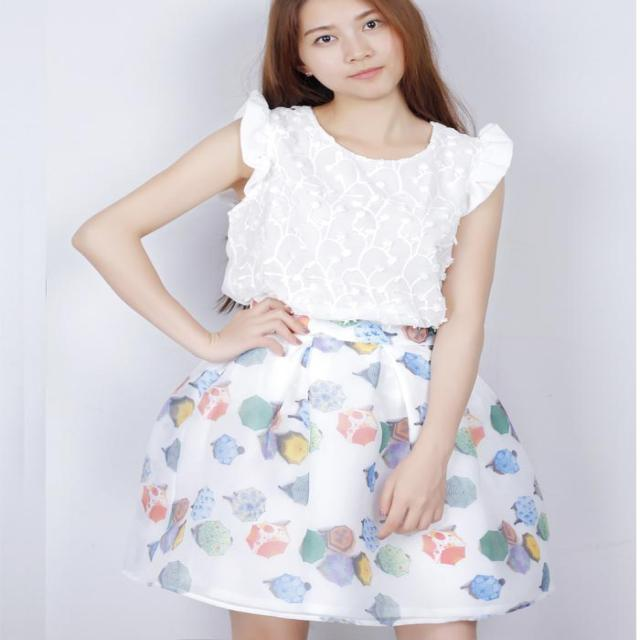skirt: (129, 300, 554, 622)
vest: (227, 96, 501, 328)
